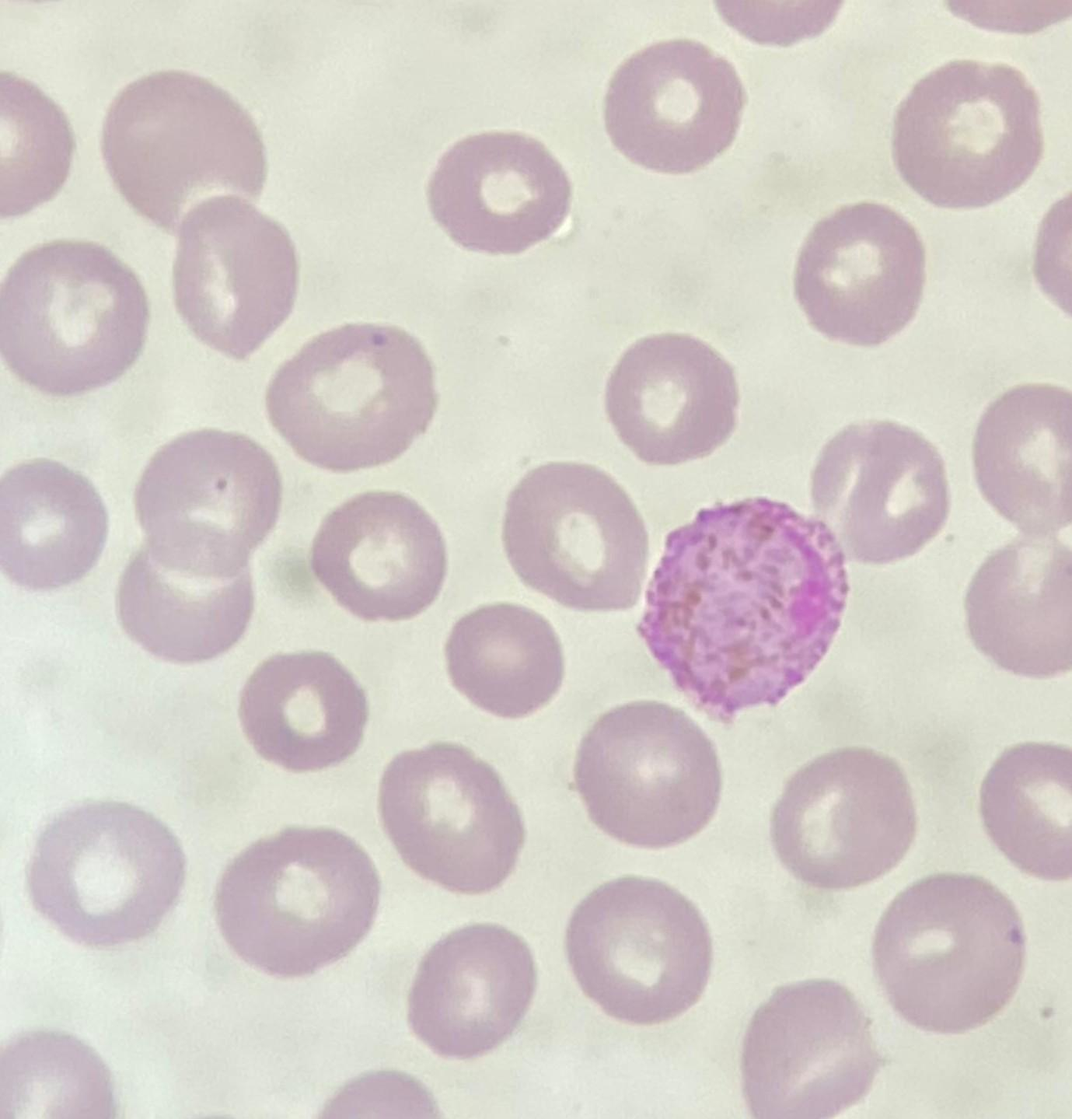Infected: (639, 496, 850, 728)
Uninfected: (260, 319, 441, 476), (101, 68, 270, 232), (869, 875, 1028, 1036), (0, 238, 150, 398), (888, 61, 1045, 213), (23, 803, 189, 946), (377, 741, 528, 896), (501, 463, 654, 615), (217, 830, 377, 975), (564, 873, 713, 1024), (575, 700, 722, 849), (136, 424, 284, 571), (772, 745, 918, 893), (169, 198, 299, 364), (115, 516, 257, 664), (602, 39, 750, 176), (739, 978, 881, 1119), (808, 423, 948, 565), (601, 331, 744, 470), (795, 201, 927, 350), (429, 129, 576, 260), (309, 488, 447, 622), (404, 924, 539, 1059), (237, 652, 371, 776), (970, 378, 1072, 540), (962, 538, 1072, 680), (0, 457, 110, 594), (447, 602, 565, 720), (978, 739, 1072, 885)
